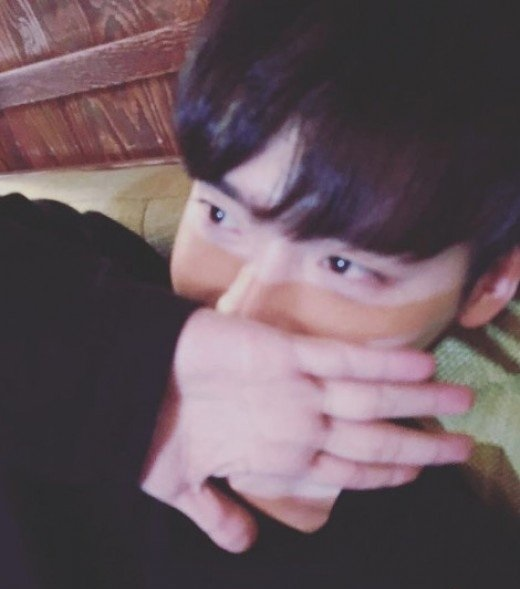face: (172, 66, 463, 472)
